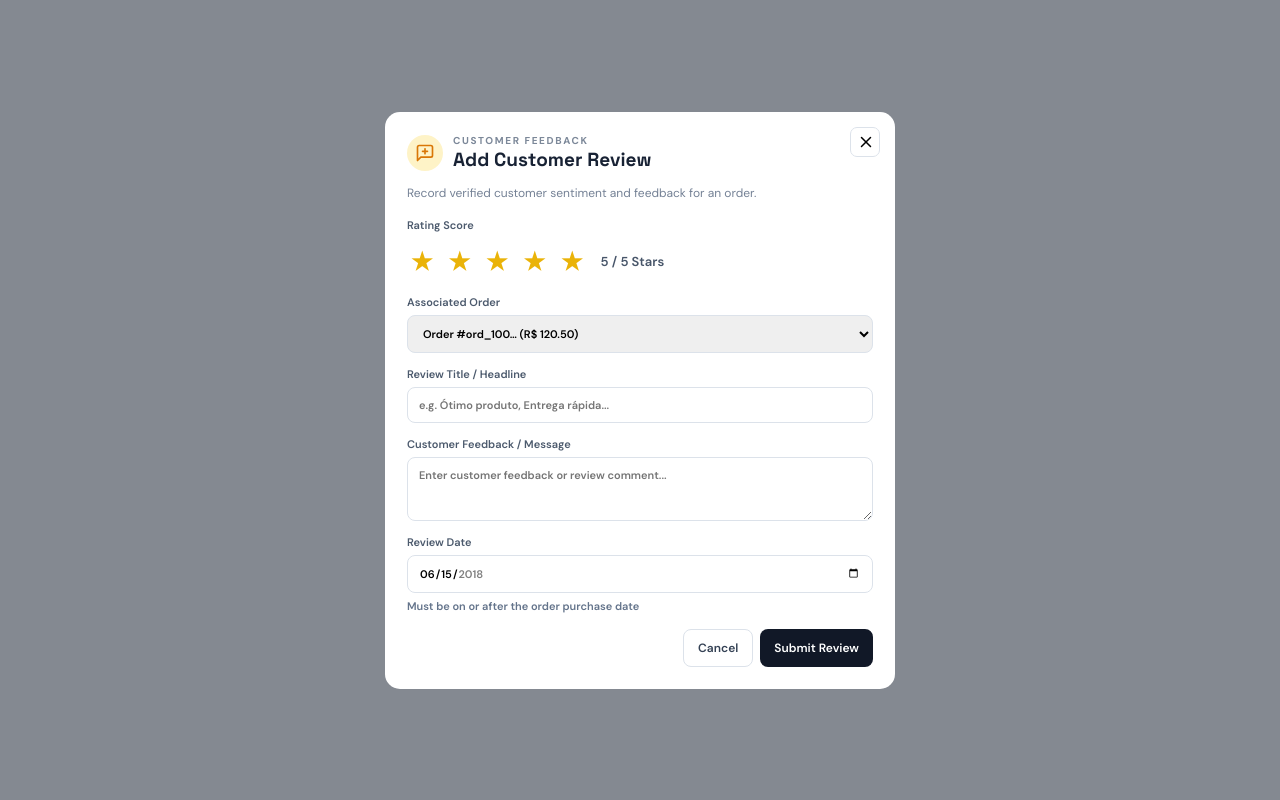
Test: ReviewModal Component › handles star rating hover and clicking
The image size is (1280, 800).
Hover 3rd star
Hover over the 3rd button "★" at (497, 261), box x1=482 y1=242 x2=512 y2=280
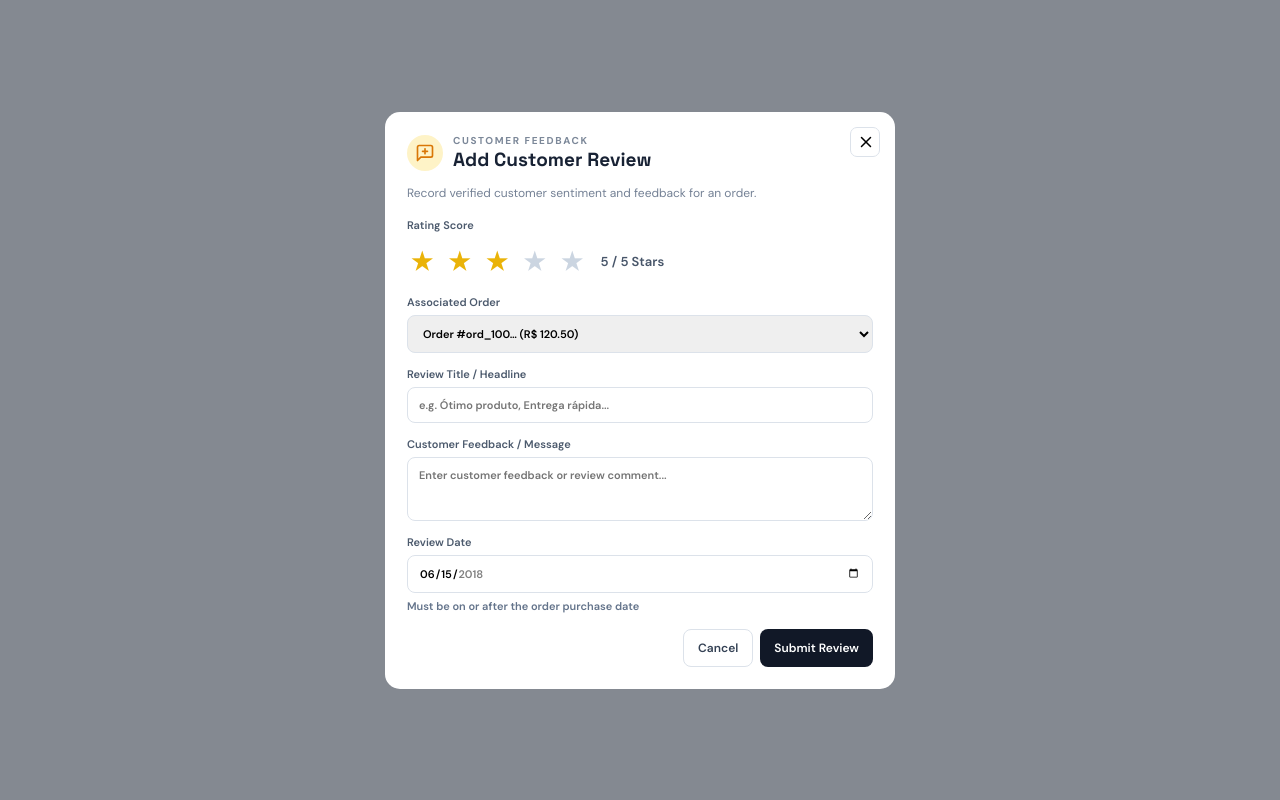
Mouse leave
Move the pointer off the 3rd button "★", box x1=482 y1=242 x2=512 y2=280
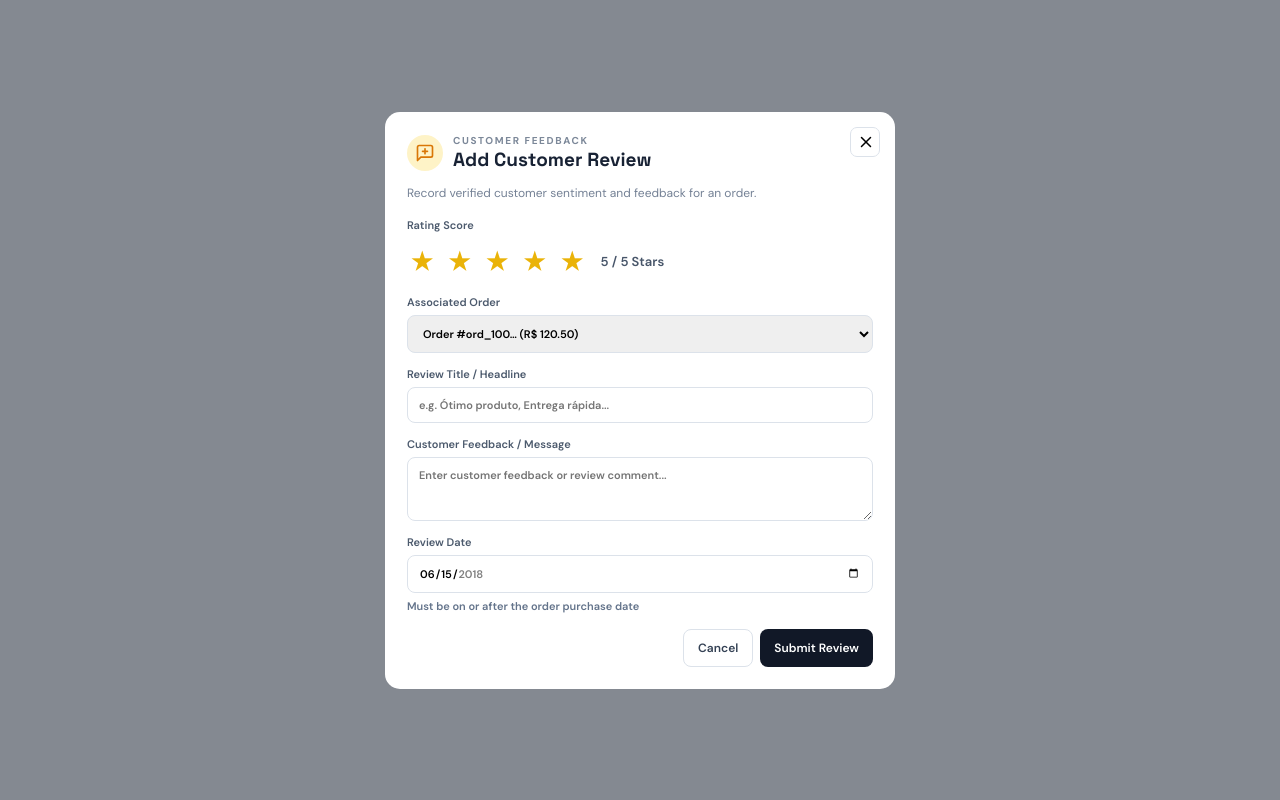
Click 2nd star
Click the 2nd button "★" at (459, 261), box x1=444 y1=242 x2=474 y2=280
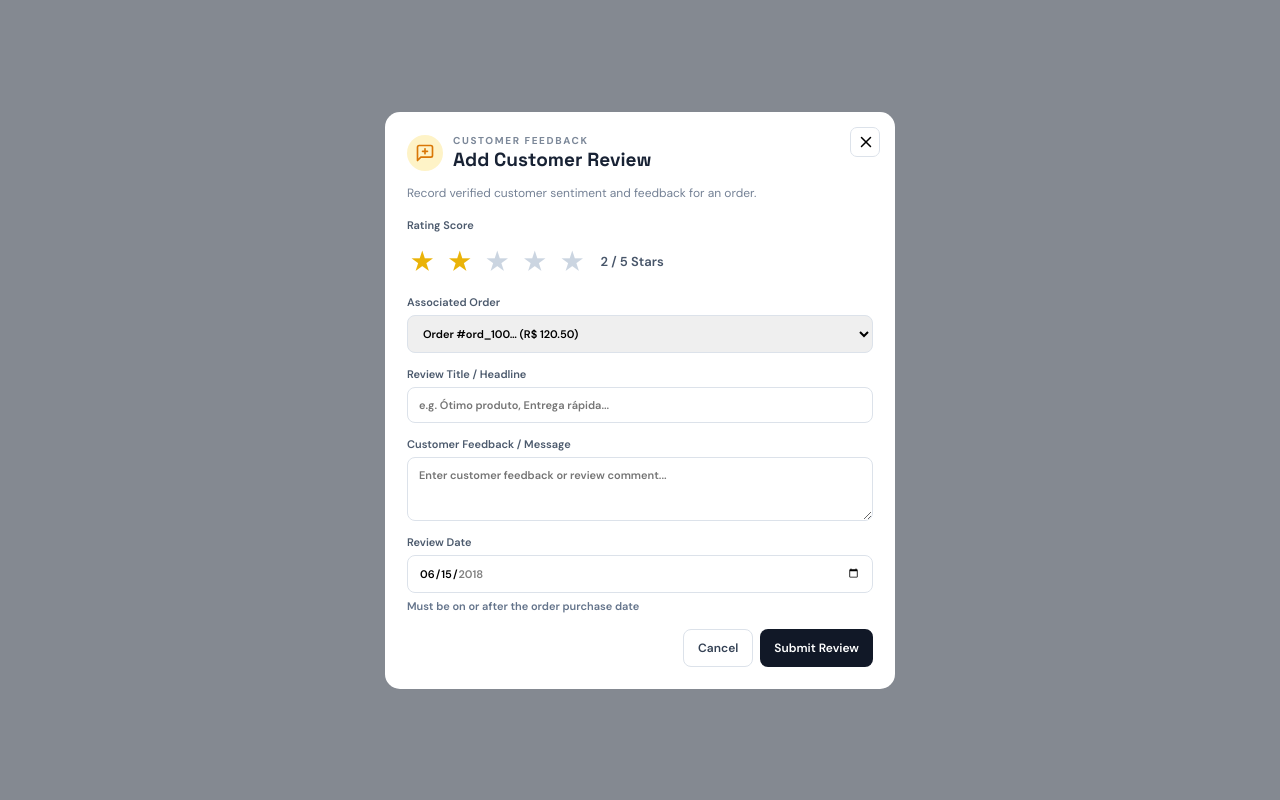
Expected: the text "2 / 5 Stars" is shown, x1=601 y1=252 x2=664 y2=270
